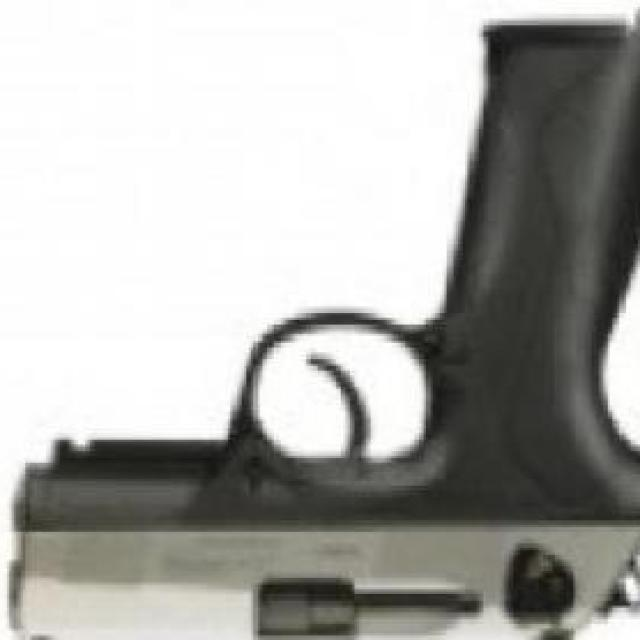pistol: (9, 14, 640, 640)
